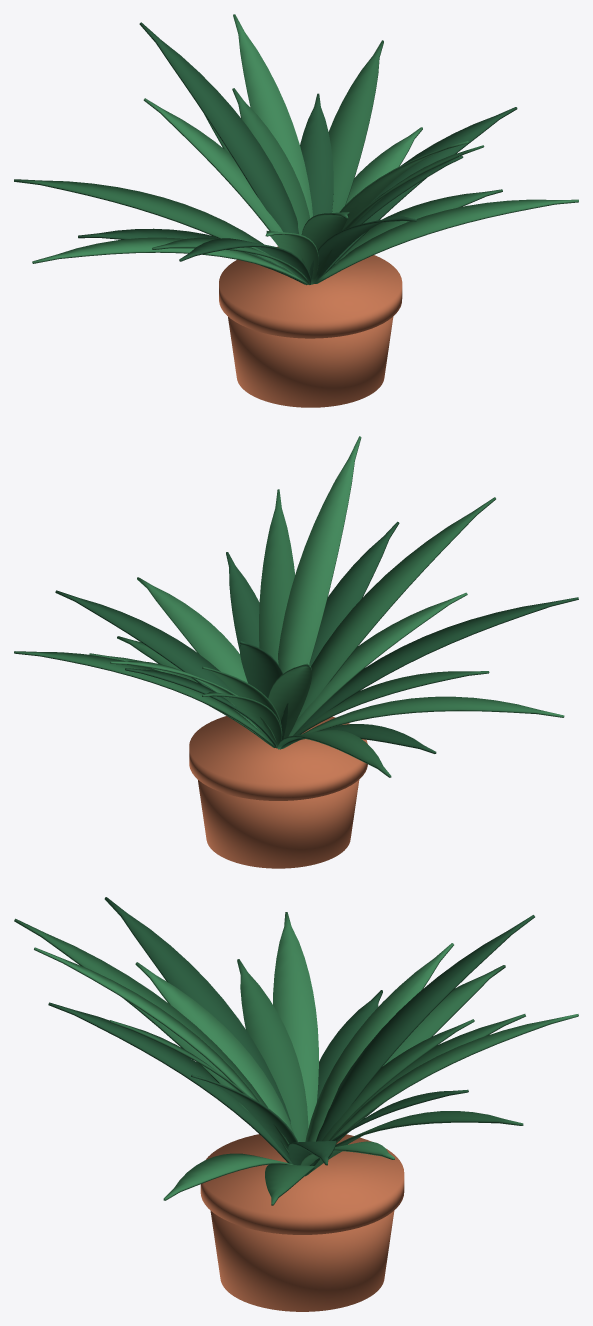
File: plant_fern.glb
The picture shows the model from 3 angles, top to bottom: view 1: azimuth 30°, elevation 25°; view 2: azimuth 150°, elevation 25°; view 3: azimuth 270°, elevation 25°; orthographic projection. The views are drawn at different scales.
Parts seen in each view (by area): view 1: plant_fern; view 2: plant_fern; view 3: plant_fern.
Boxes of the visible parts, x1=… form: plant_fern: x1=14, y1=14, x2=578, y2=407; plant_fern: x1=14, y1=436, x2=578, y2=868; plant_fern: x1=14, y1=897, x2=578, y2=1311.
Bounding box in the file's own units: 0.4318 × 0.2582 × 0.3784.
